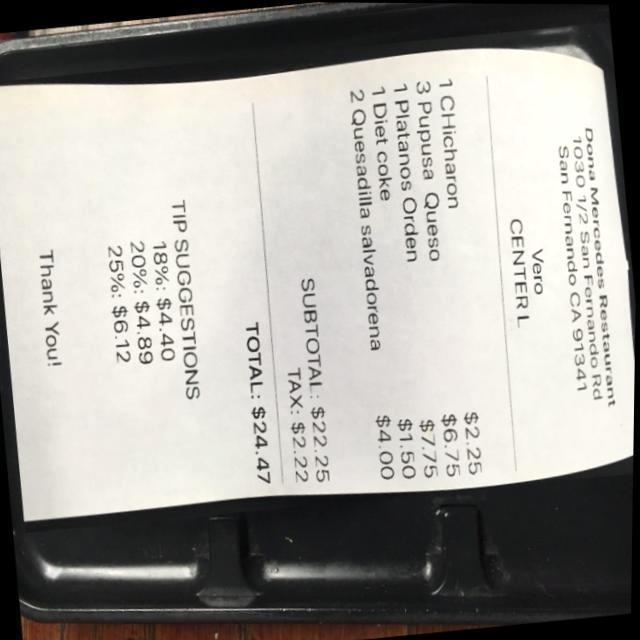Paper: (0, 37, 640, 526)
